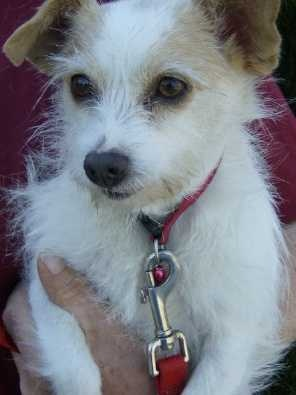Dog: (3, 0, 292, 394)
